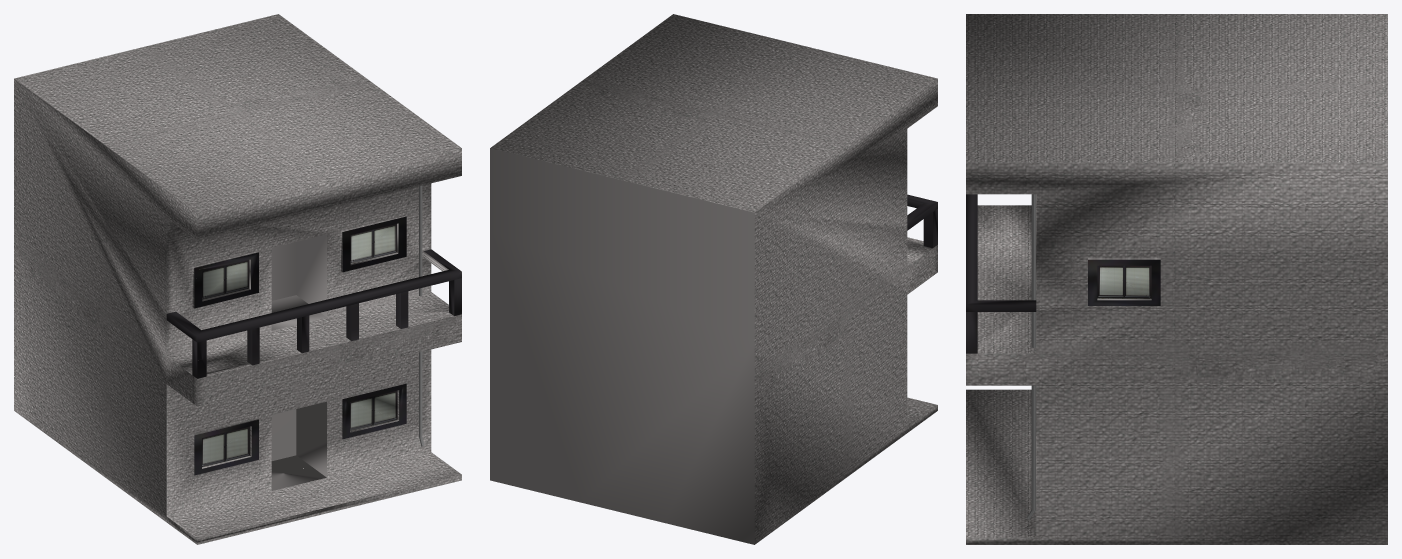
The model's file is LOWPOLYHOUSE1.obj.
3 views of the same model, side by side, from view 1: azimuth 30°, elevation 25°; view 2: azimuth 150°, elevation 25°; view 3: azimuth 270°, elevation 25° (orthographic). The views are drawn at different scales.
Visible parts, largest first — view 1: polySurface003; view 2: polySurface003; view 3: polySurface003.
Boxes of the visible parts, box(x1,y1,x2,y2) form: polySurface003: box(14, 14, 461, 544); polySurface003: box(490, 14, 937, 544); polySurface003: box(966, 14, 1387, 544).
Bounding box in the file's own units: 10.1 × 12 × 12.
